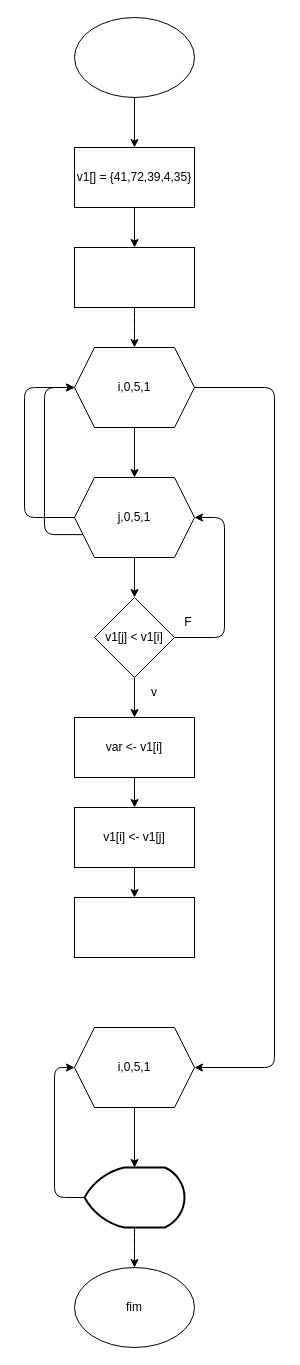
The diagram is 300 pixels wide and 1365 high, and some of its shapes have lost their labels. Here are the shapes that lost their labels. From the top down, the centre of each, then its label:
At (134,57): "inicio".
At (134,277): "v2[] = {0,0,0,0,0}".
At (134,927): "v1[j] <- var".
At (134,1197): "v1[i]".
